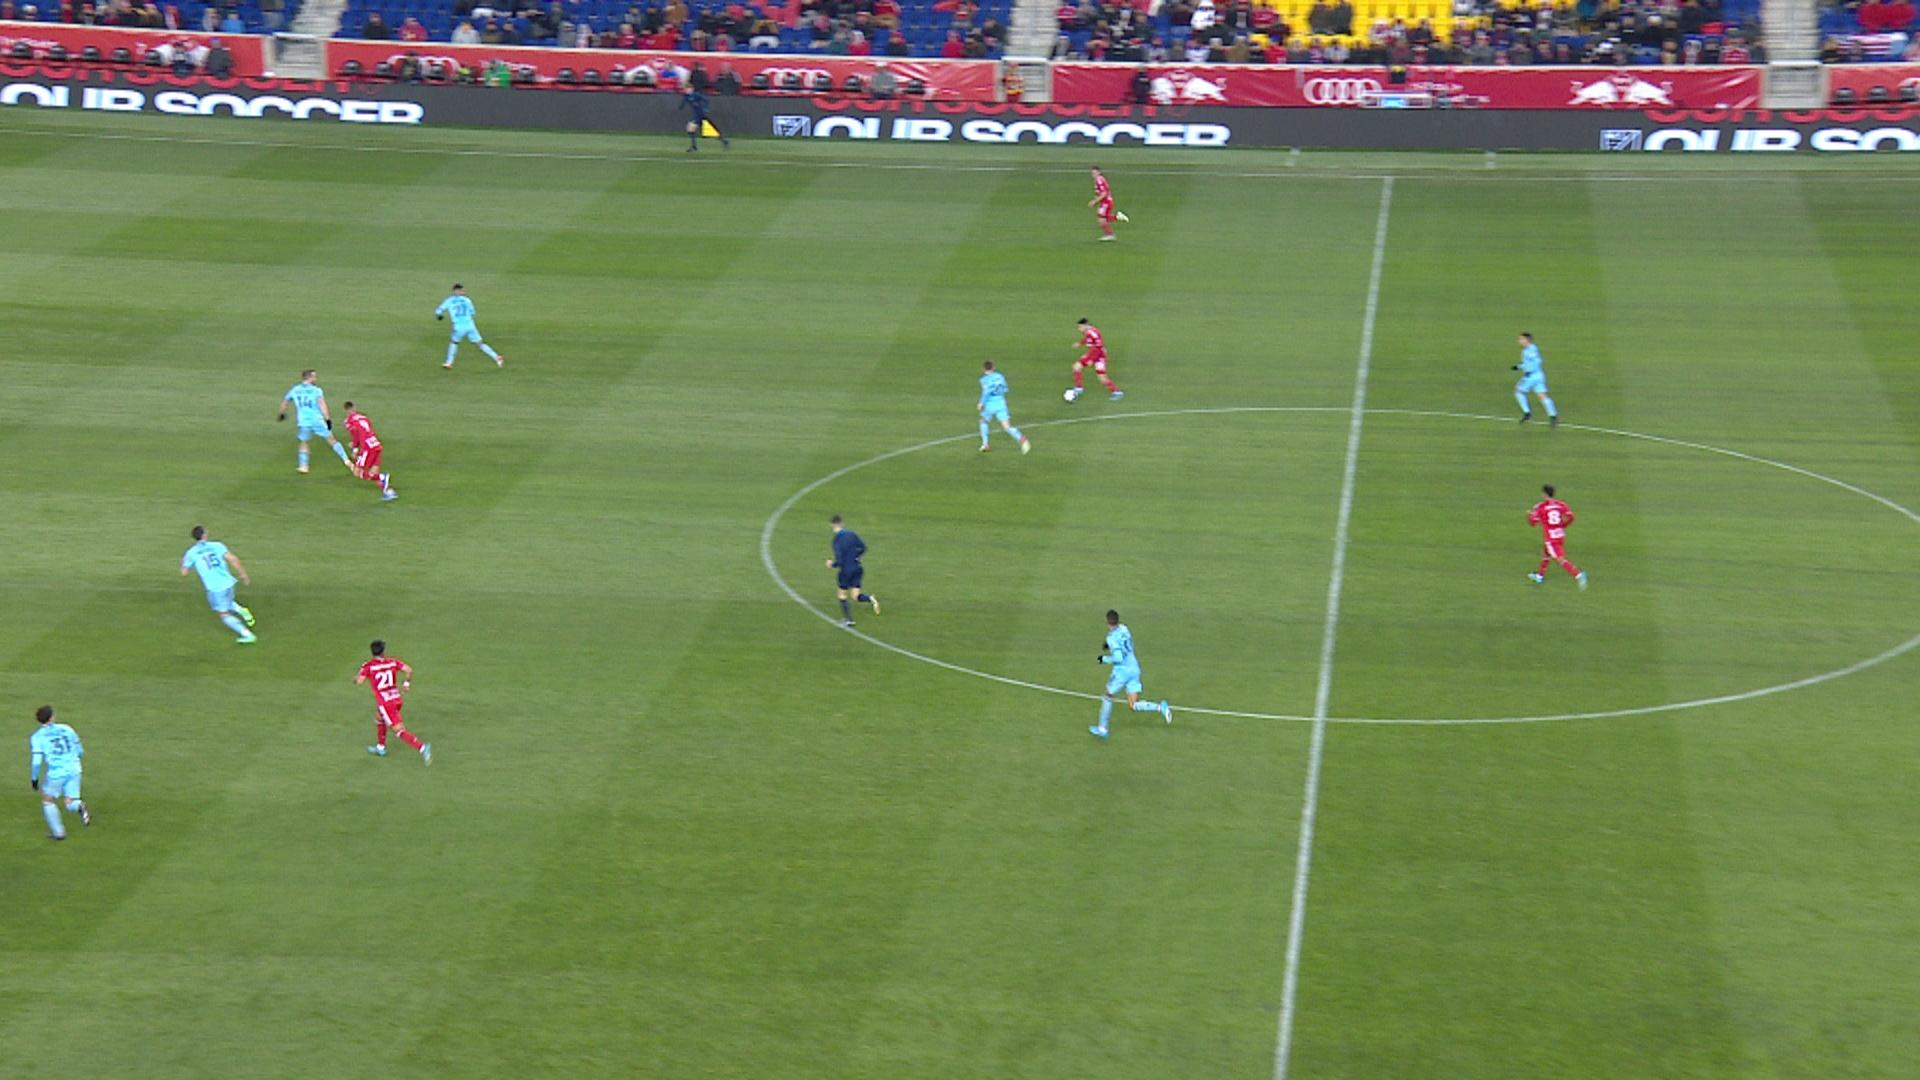football: (1063, 388, 1080, 404)
